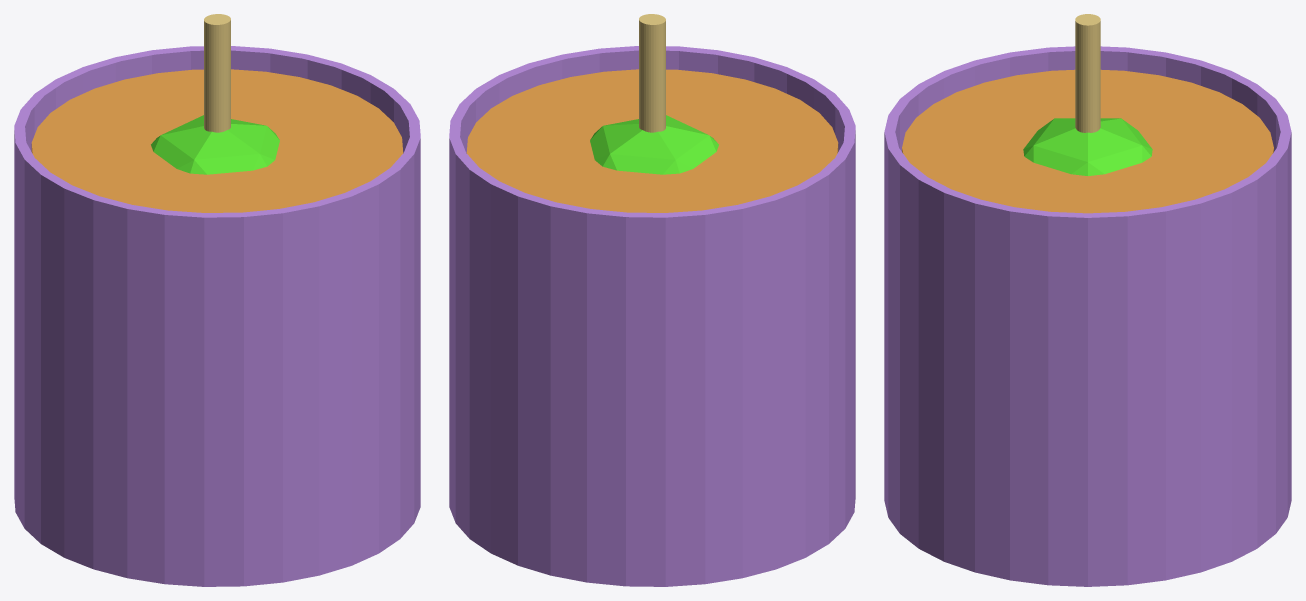
Rendered from plant.glb.
3 views of the same model, side by side, from view 1: azimuth 30°, elevation 25°; view 2: azimuth 150°, elevation 25°; view 3: azimuth 270°, elevation 25° (orthographic).
Visible parts, largest first — view 1: Cylinder, Cylinder.001, Icosphere, Cylinder.002; view 2: Cylinder, Cylinder.001, Icosphere, Cylinder.002; view 3: Cylinder, Cylinder.001, Icosphere, Cylinder.002.
Boxes of the visible parts, x1=… form: Cylinder: x1=14, y1=46, x2=420, y2=586; Cylinder.001: x1=31, y1=69, x2=403, y2=212; Icosphere: x1=151, y1=115, x2=279, y2=174; Cylinder.002: x1=204, y1=14, x2=230, y2=132; Cylinder: x1=449, y1=46, x2=855, y2=586; Cylinder.001: x1=466, y1=69, x2=838, y2=212; Icosphere: x1=590, y1=115, x2=718, y2=174; Cylinder.002: x1=639, y1=14, x2=665, y2=132; Cylinder: x1=884, y1=46, x2=1291, y2=586; Cylinder.001: x1=902, y1=69, x2=1273, y2=213; Icosphere: x1=1023, y1=118, x2=1152, y2=175; Cylinder.002: x1=1075, y1=14, x2=1100, y2=132.
Size of the model in its own units: 9.3 by 13.76 by 9.3.
